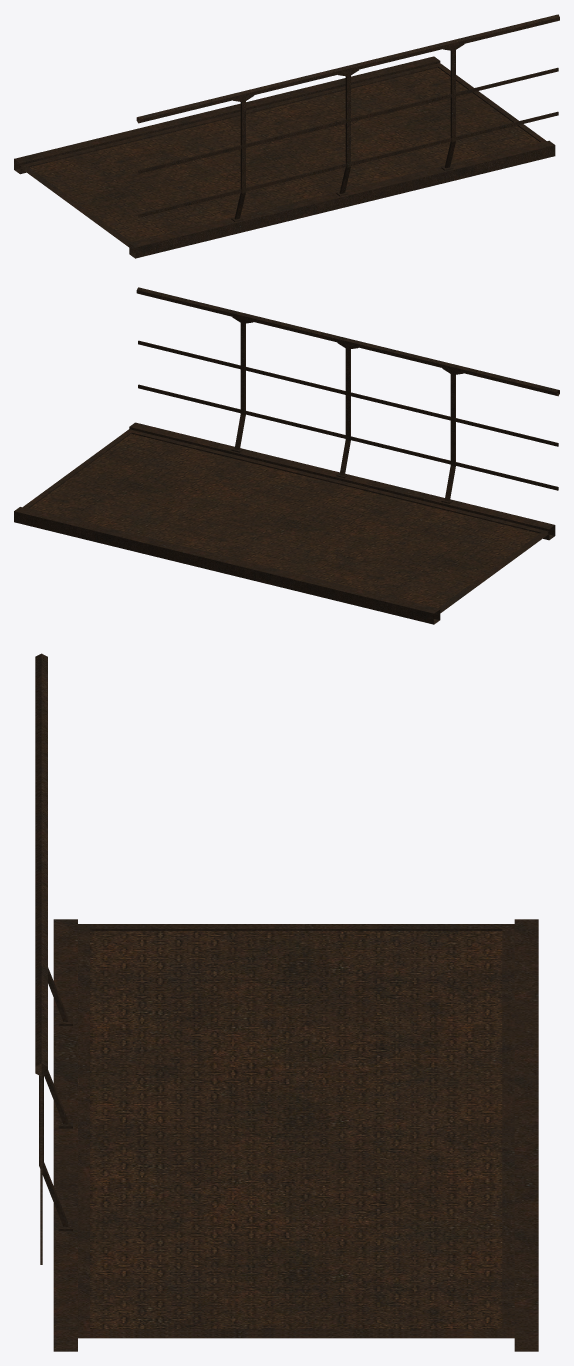
Rendered from catwalk_1.obj.
The picture shows the model from 3 angles, top to bottom: view 1: azimuth 30°, elevation 25°; view 2: azimuth 150°, elevation 25°; view 3: azimuth 270°, elevation 25°; orthographic projection. The views are drawn at different scales.
Parts seen in each view (by area): view 1: catwalk_1, handrail_4; view 2: catwalk_1, handrail_4; view 3: catwalk_1, handrail_4.
Boxes of the visible parts, x1,y1,x2,y2 form: catwalk_1: (14, 56, 555, 258); handrail_4: (136, 14, 559, 221); catwalk_1: (14, 422, 555, 624); handrail_4: (136, 287, 559, 503); catwalk_1: (53, 919, 538, 1351); handrail_4: (35, 653, 72, 1264).
Size of the model in its own units: 4 by 1.31 by 2.08.
